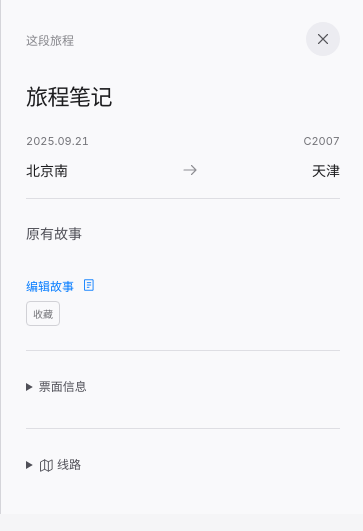
preserves entered text when save fails and allows retry
This screenshot has width=363, height=531.
Click the button "编辑故事" at x=61, y=285, box [26,270,96,301]
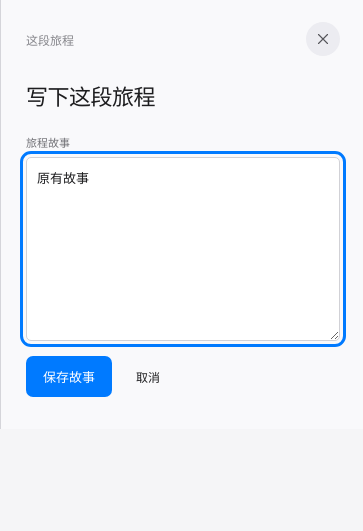
Replace the text in the text box labelled "旅程故事" with "未丢失的故事" at x=183, y=249, box [26,157,340,341]
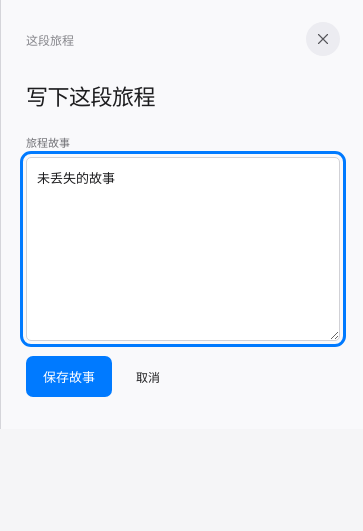
Submit the form named "编辑故事", box [26,134,340,397]
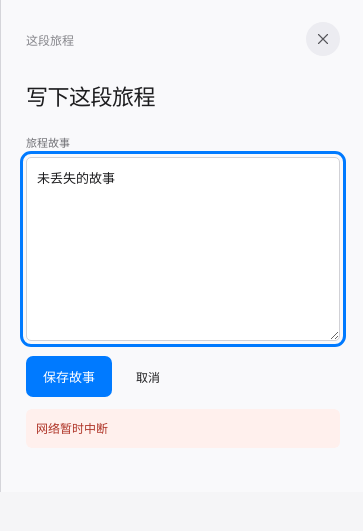
Result: the message reads "网络暂时中断" at [36,421,108,436]
